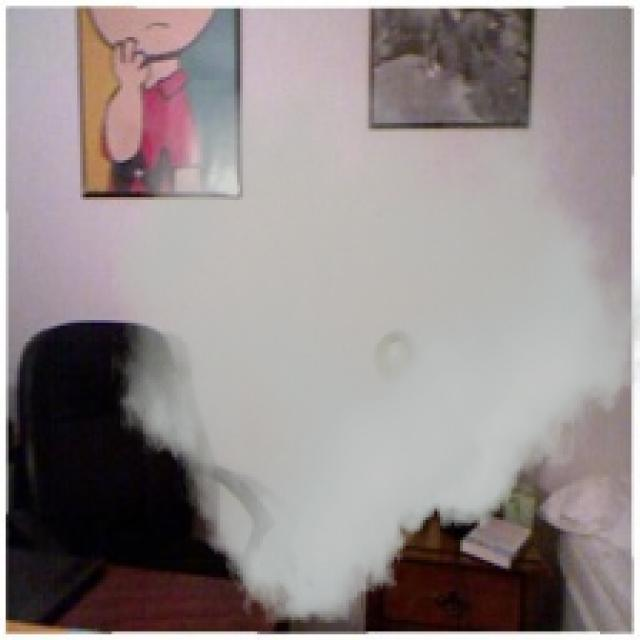smoke: (112, 80, 637, 626)
